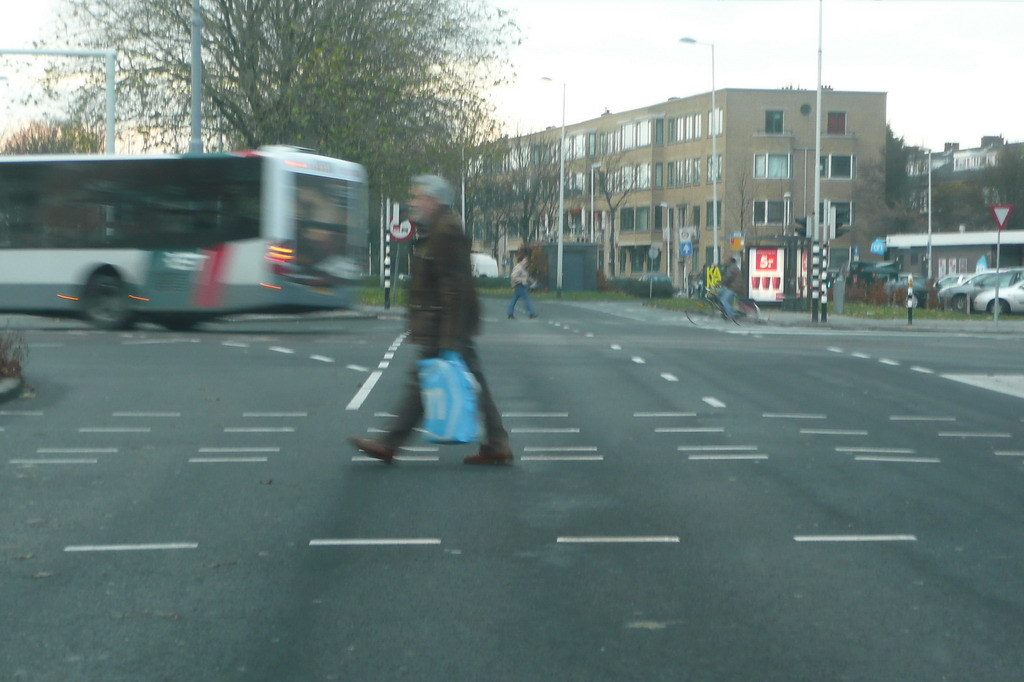Bus: (0, 148, 366, 333)
